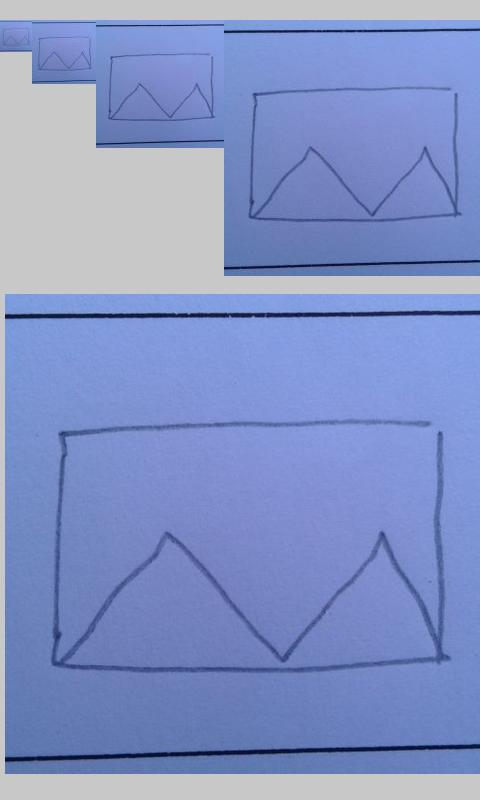image_view: (48, 418, 448, 680), (246, 84, 462, 226), (108, 52, 214, 122), (37, 36, 93, 72), (2, 27, 30, 48)
